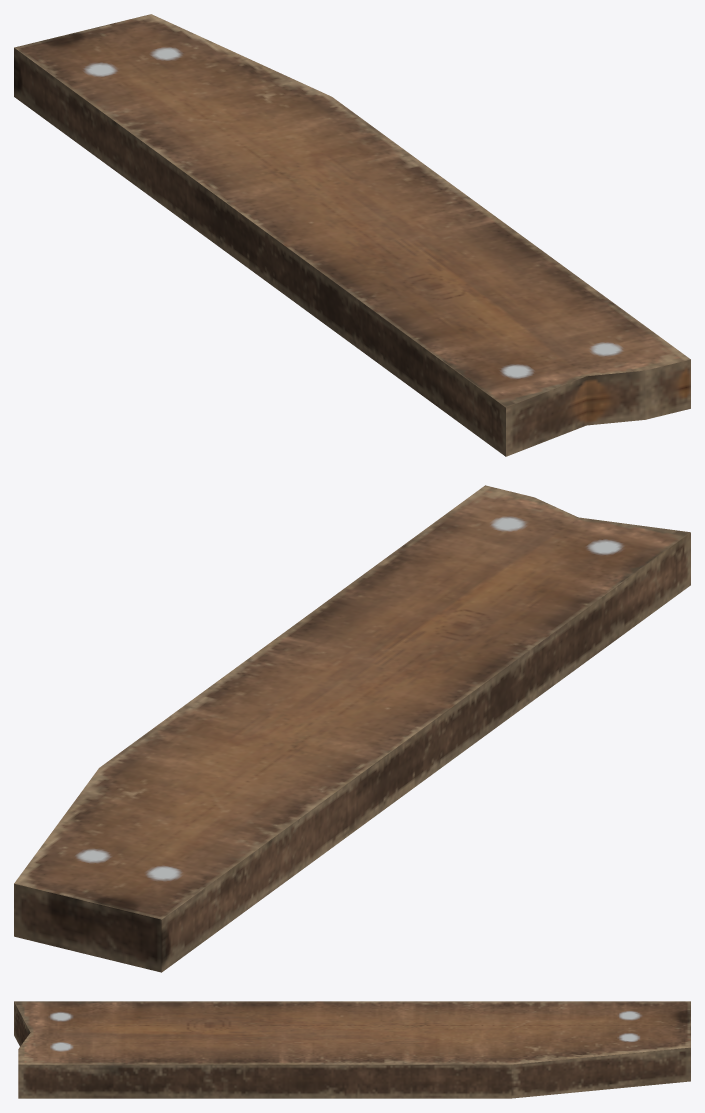
Rendered from Plank1.fbx.
3 renders of one model, top to bottom at view 1: azimuth 30°, elevation 25°; view 2: azimuth 150°, elevation 25°; view 3: azimuth 270°, elevation 25°, orthographic. The views are drawn at different scales.
Parts seen in each view (by area): view 1: Wood Planks; view 2: Wood Planks; view 3: Wood Planks.
Boxes of the visible parts, x1,y1,x2,y2 form: Wood Planks: [14, 14, 690, 456]; Wood Planks: [14, 485, 690, 972]; Wood Planks: [14, 1001, 690, 1098].
Bounding box in the file's own units: 15.24 × 3.81 × 69.01.
